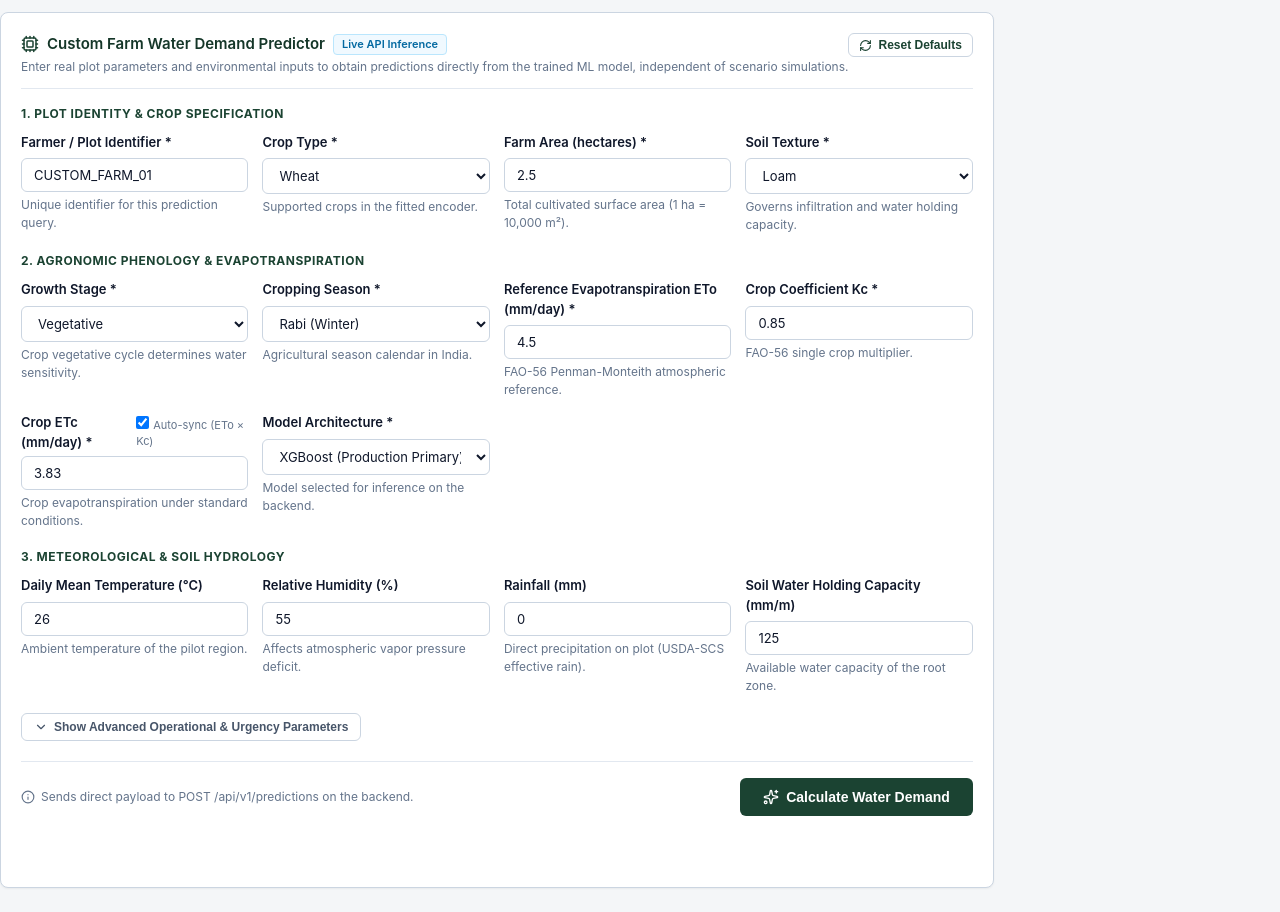
Scenario: CustomFarmPredictor Component & Phase 14 UI Flow › 6. displays warnings when returned by the model (e.g., minimum physical clamp)
What coordinates should you click on to do the following:
click the button "Calculate Water Demand"
I would click on:
 (856, 797)
Its box is top-left (740, 778), bottom-right (973, 816).
(page scrolled)
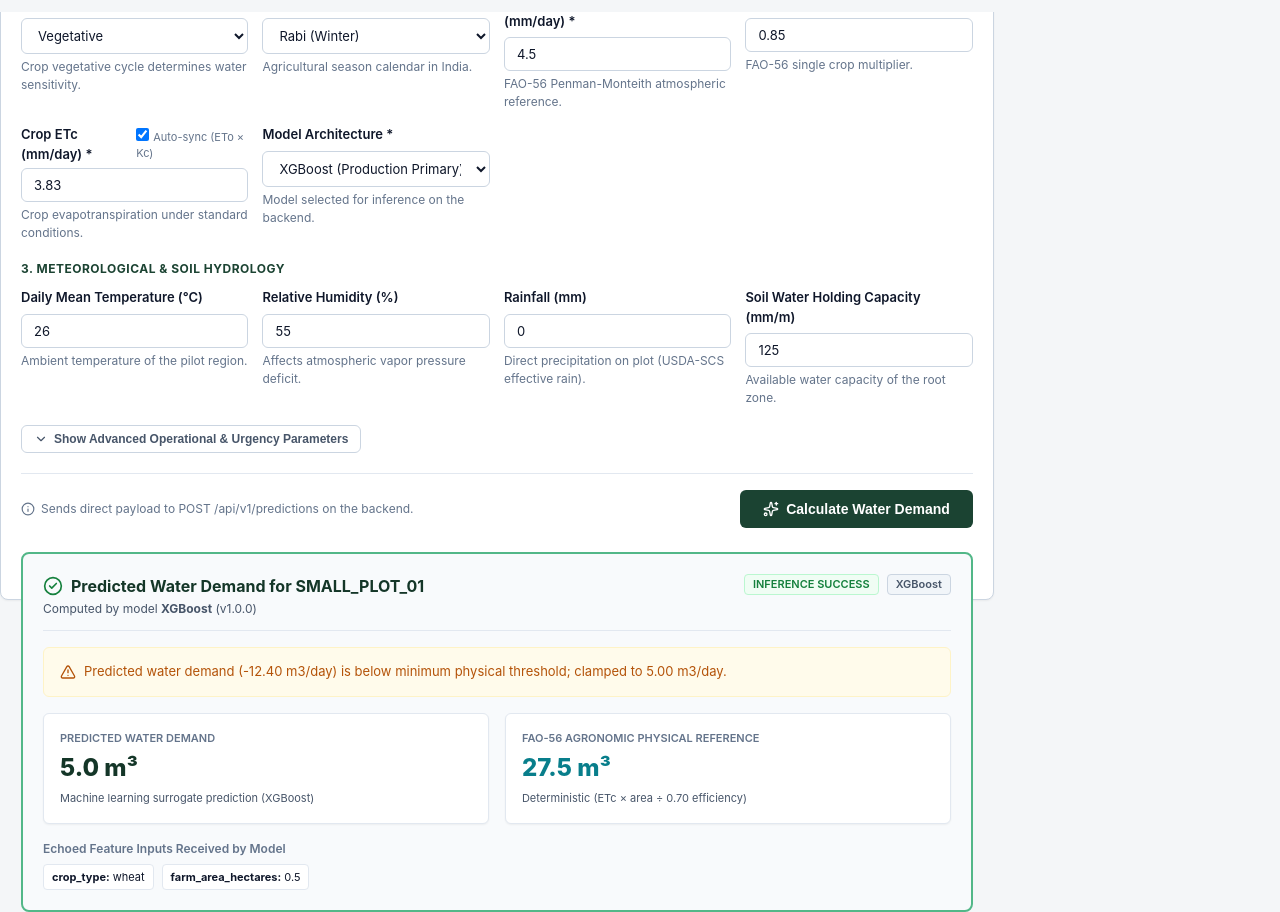
Expected: the text "below minimum physical threshold; clamped to 5.00 m3/day" is shown, top-left (84, 663), bottom-right (727, 679)
Expected: the text "5.0 m³" is shown, top-left (60, 753), bottom-right (138, 782)
